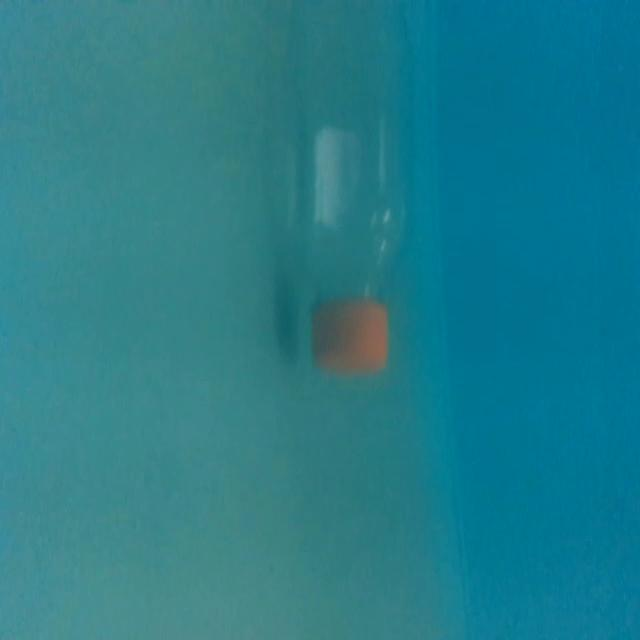plastic bottle: (266, 4, 432, 374)
